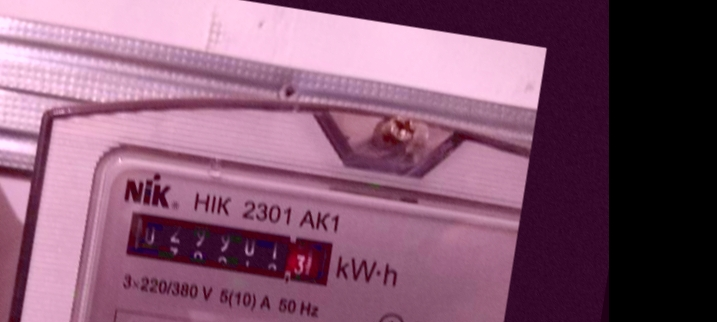0: (239, 231, 258, 258), (139, 221, 157, 246)
1: (266, 235, 282, 261)
2: (166, 221, 184, 245)
3: (289, 251, 308, 276)
9: (216, 229, 231, 254), (191, 225, 207, 247)
screen: (115, 201, 343, 297)
